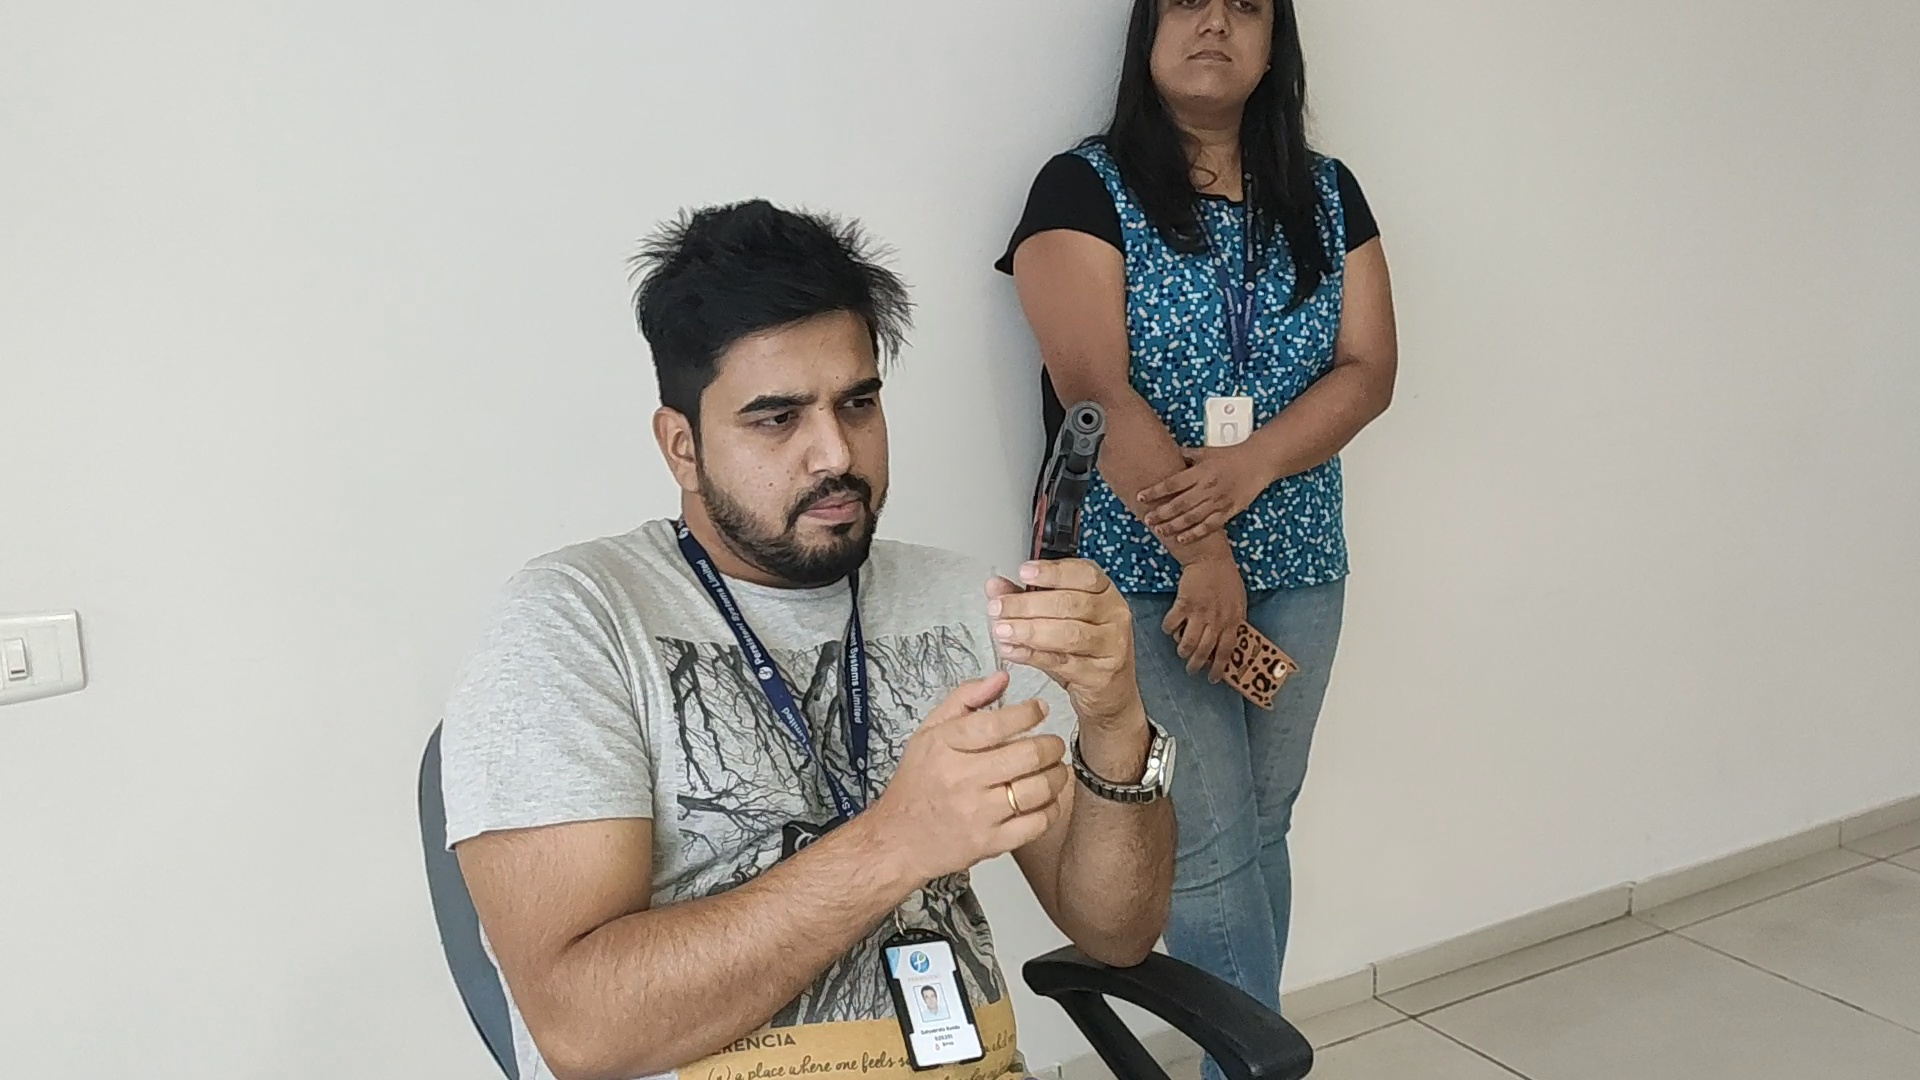gun: (1030, 400, 1106, 558)
